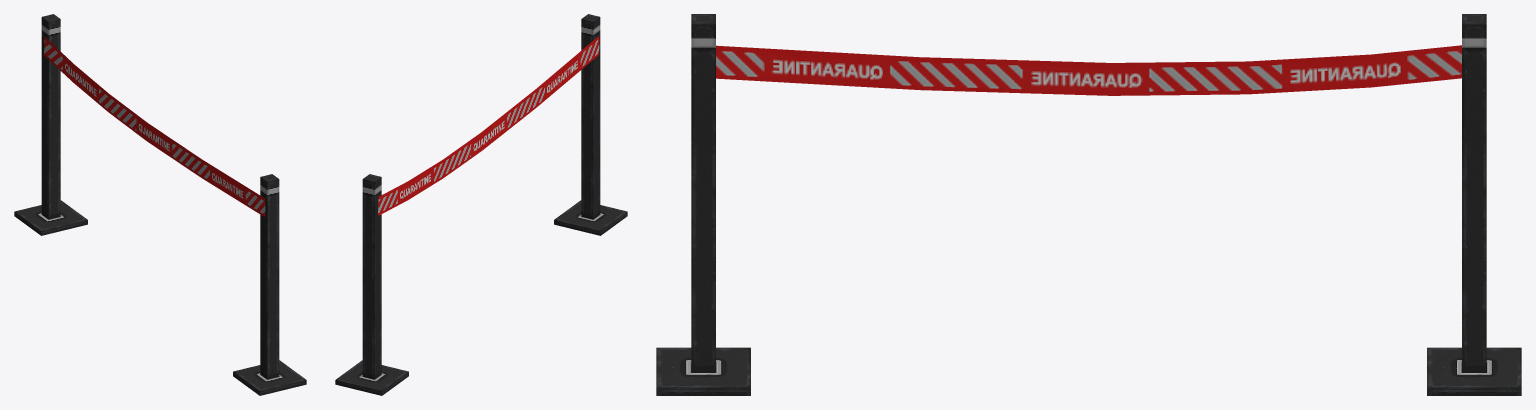
File: HH_Quarantine_Tape_Stanchions_2m.fbx
3 renders of one model, left to right at view 1: azimuth 30°, elevation 25°; view 2: azimuth 150°, elevation 25°; view 3: azimuth 270°, elevation 25°, orthographic. The views are drawn at different scales.
Visible parts, largest first — view 1: HH_Quarantine_Tape_Stanchions_2m; view 2: HH_Quarantine_Tape_Stanchions_2m; view 3: HH_Quarantine_Tape_Stanchions_2m.
Part boxes in pixels (box(x1,y1,x2,y2)): HH_Quarantine_Tape_Stanchions_2m: box(14, 14, 306, 395); HH_Quarantine_Tape_Stanchions_2m: box(335, 14, 627, 395); HH_Quarantine_Tape_Stanchions_2m: box(656, 14, 1521, 395).
Bounding box in the file's own units: 24.62 × 102 × 225.
